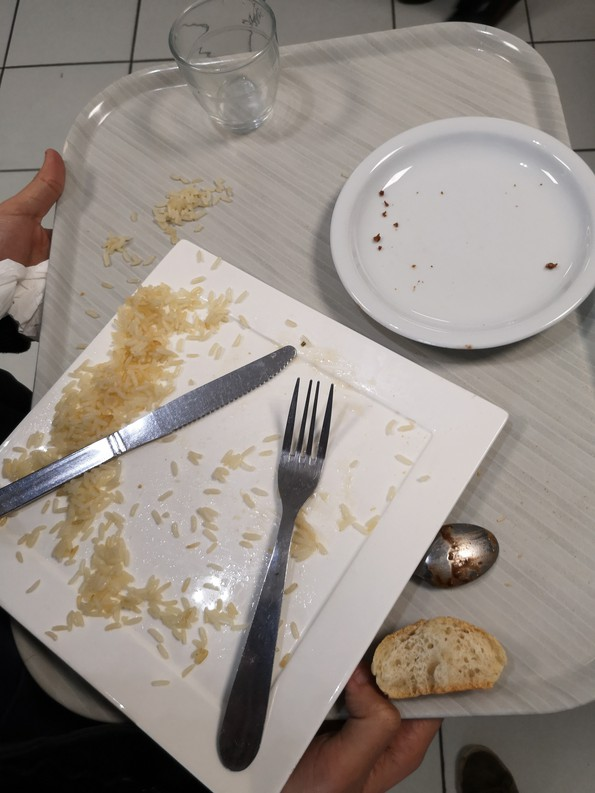cup: (157, 1, 294, 135)
cutlery: (1, 344, 303, 526), (220, 377, 343, 770), (392, 514, 521, 594)
orga: (54, 280, 195, 413), (374, 623, 502, 687)
